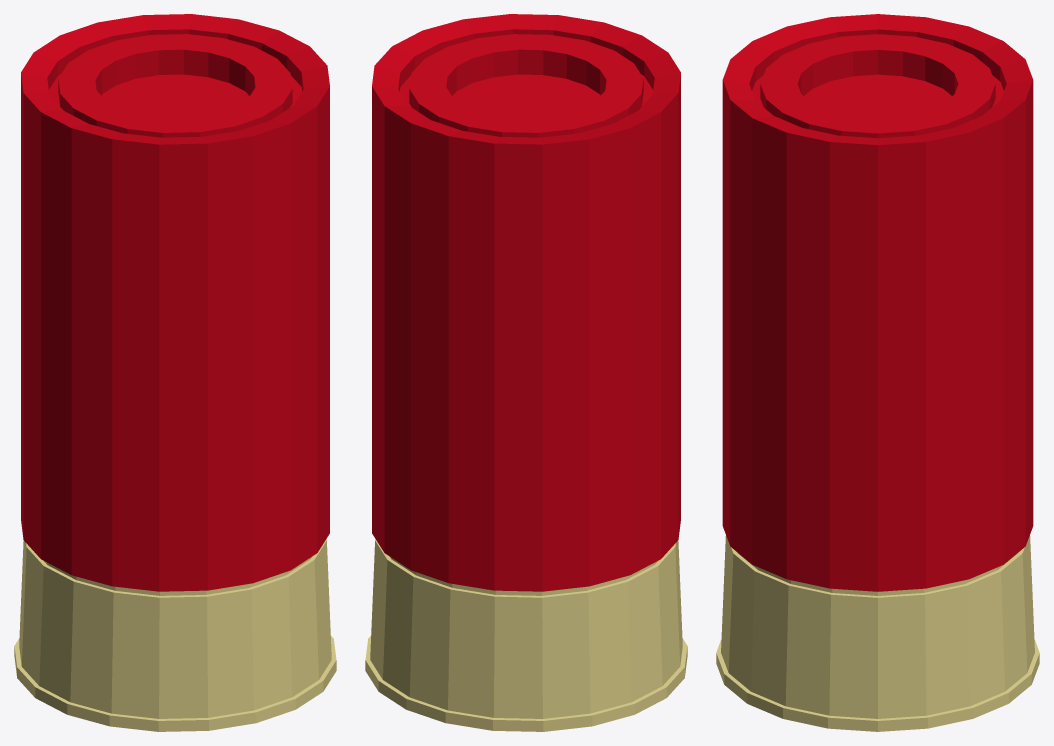
The model's file is ammo_doubleBarrel.fbx.
3 views of the same model, side by side, from view 1: azimuth 30°, elevation 25°; view 2: azimuth 150°, elevation 25°; view 3: azimuth 270°, elevation 25° (orthographic).
Parts seen in each view (by area): view 1: Cylinder; view 2: Cylinder; view 3: Cylinder.
Part boxes in pixels (x1,y1,x2,y2): Cylinder: (14,14,336,731); Cylinder: (365,14,687,731); Cylinder: (716,14,1039,731).
Size of the model in its own units: 208 by 415 by 208.
